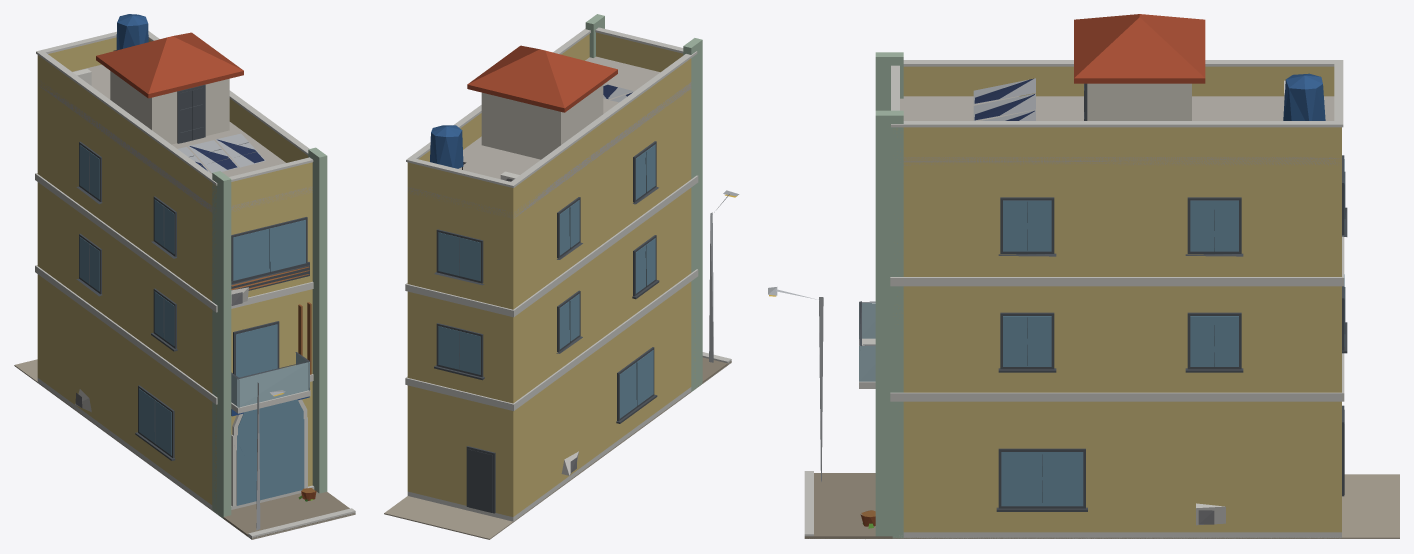
The model's file is bay1_one.glb.
3 views of the same model, side by side, from view 1: azimuth 30°, elevation 25°; view 2: azimuth 150°, elevation 25°; view 3: azimuth 270°, elevation 25° (orthographic). The views are drawn at different scales.
Visible parts, largest first — view 1: body; view 2: body; view 3: body.
Boxes of the visible parts, x1=… form: body: x1=14, y1=14, x2=355, y2=539; body: x1=384, y1=14, x2=739, y2=539; body: x1=768, y1=14, x2=1399, y2=538.
Size of the model in its own units: 4.71 by 14.77 by 16.88.
